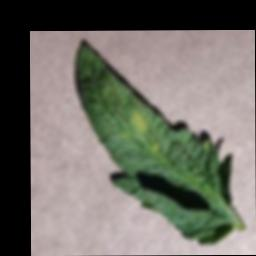Leaf_Mold: (132, 111, 149, 131)
